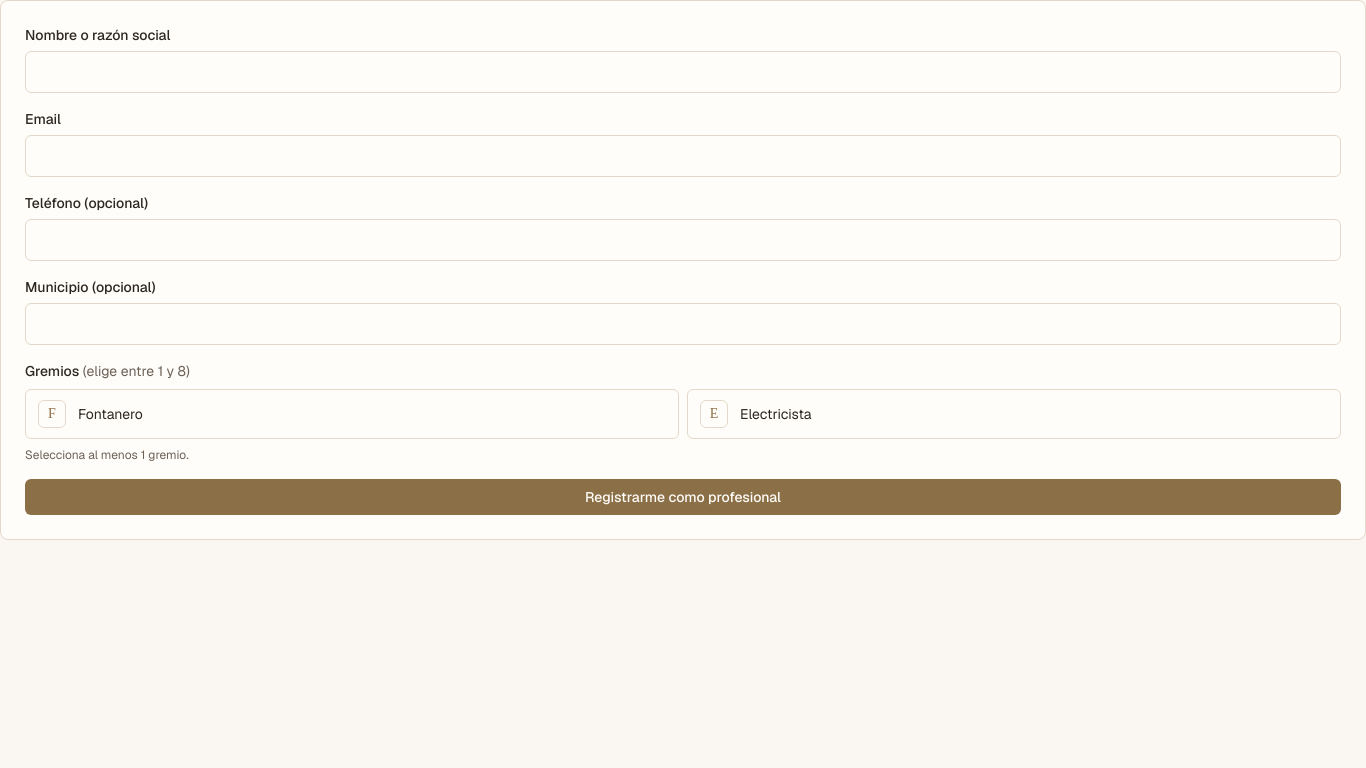
FormularioAlta › un_segundo_submit_con_la_peticion_en_vuelo_no_dispara_un_segundo_post
Expected: the checkbox labelled "Fontanero" is shown, [25,389,679,439]
Type "Luis Fontanero" into the field labelled "Nombre o razón social" at (683, 72), box [25,51,1341,93]
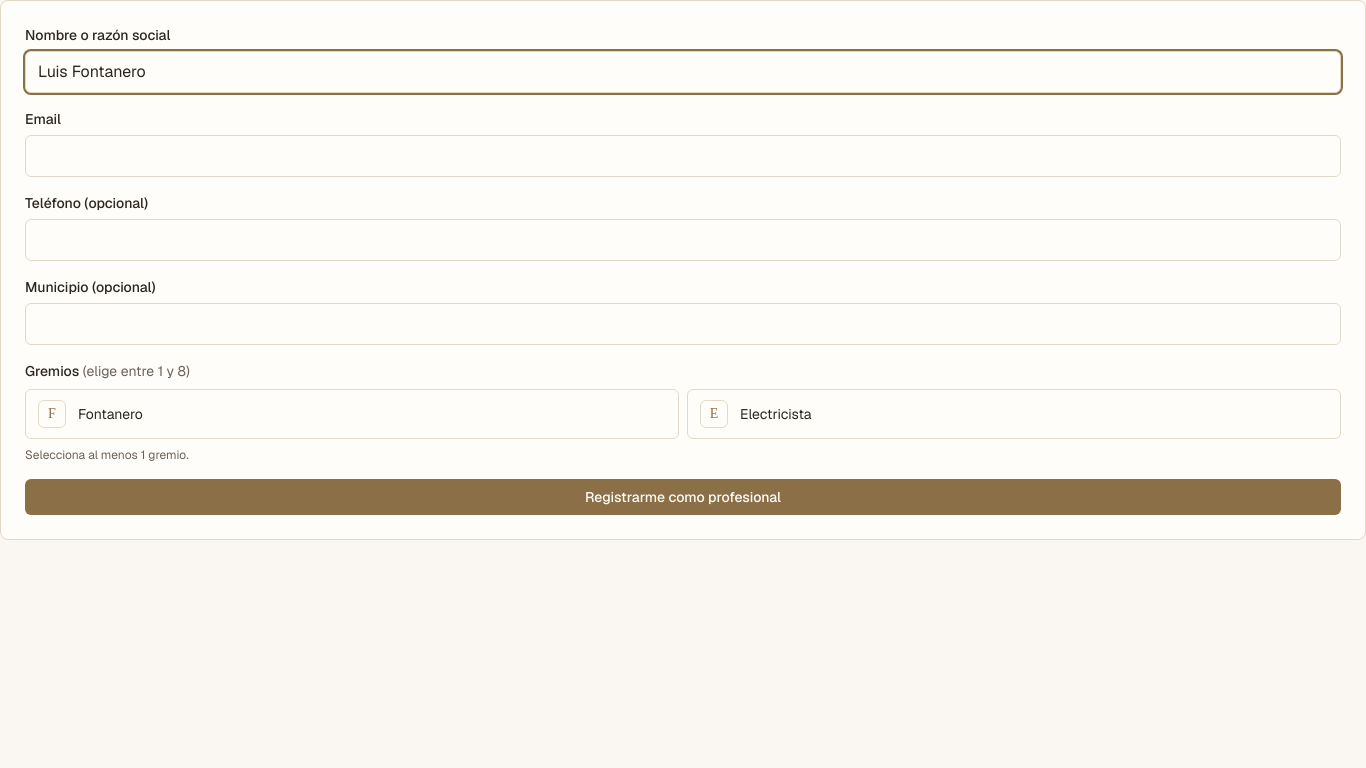
Type "luis@ejemplo.com" into the field labelled "Email" at (683, 156), box [25,135,1341,177]
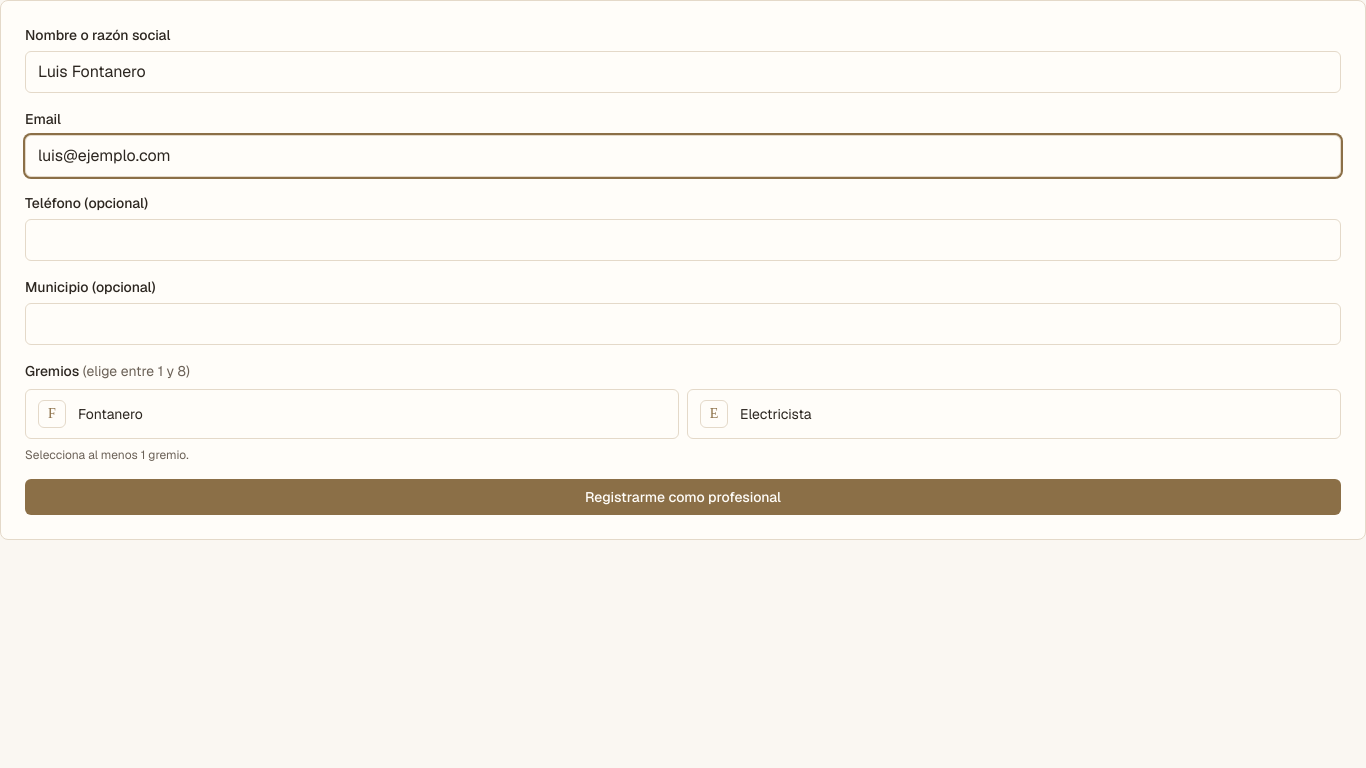
Click the checkbox labelled "Fontanero" at (110, 414), box [25,389,679,439]
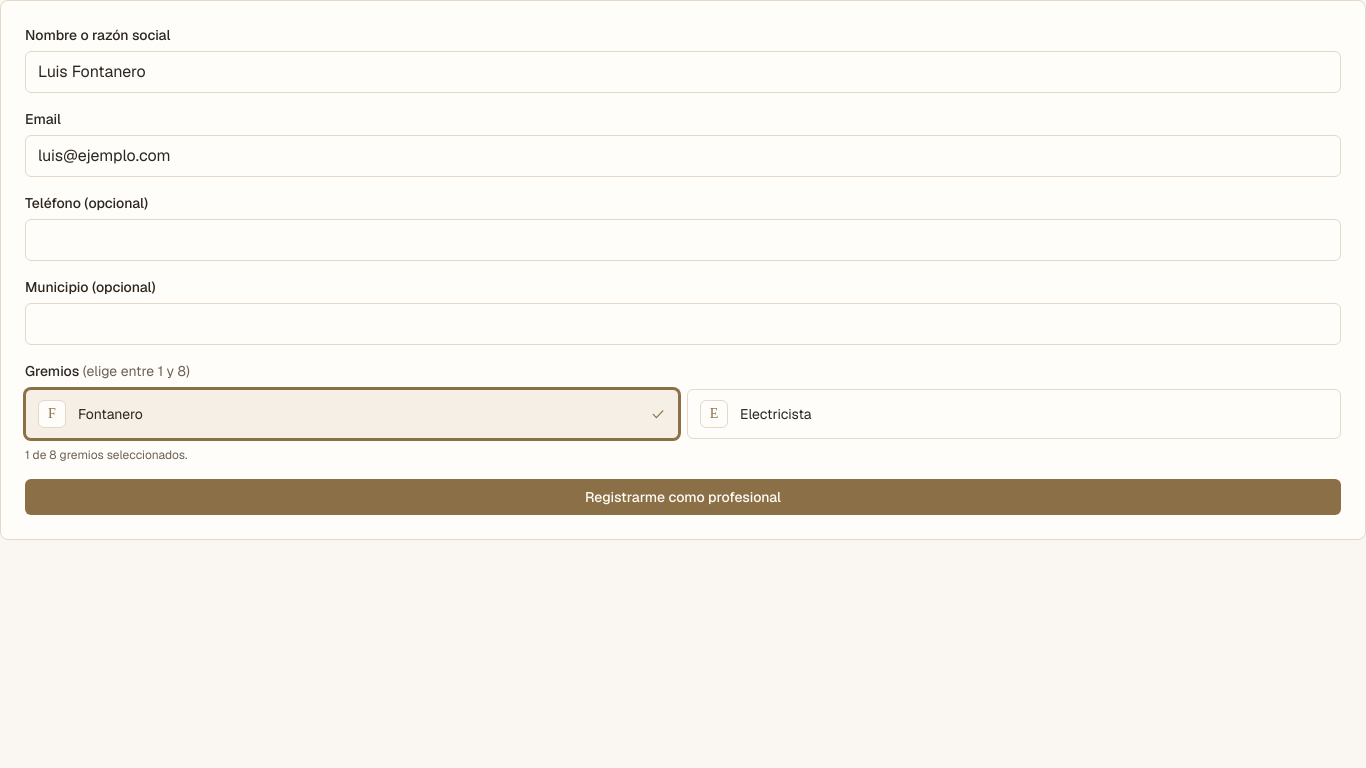
Submit the form named "Registrarme como profesional"
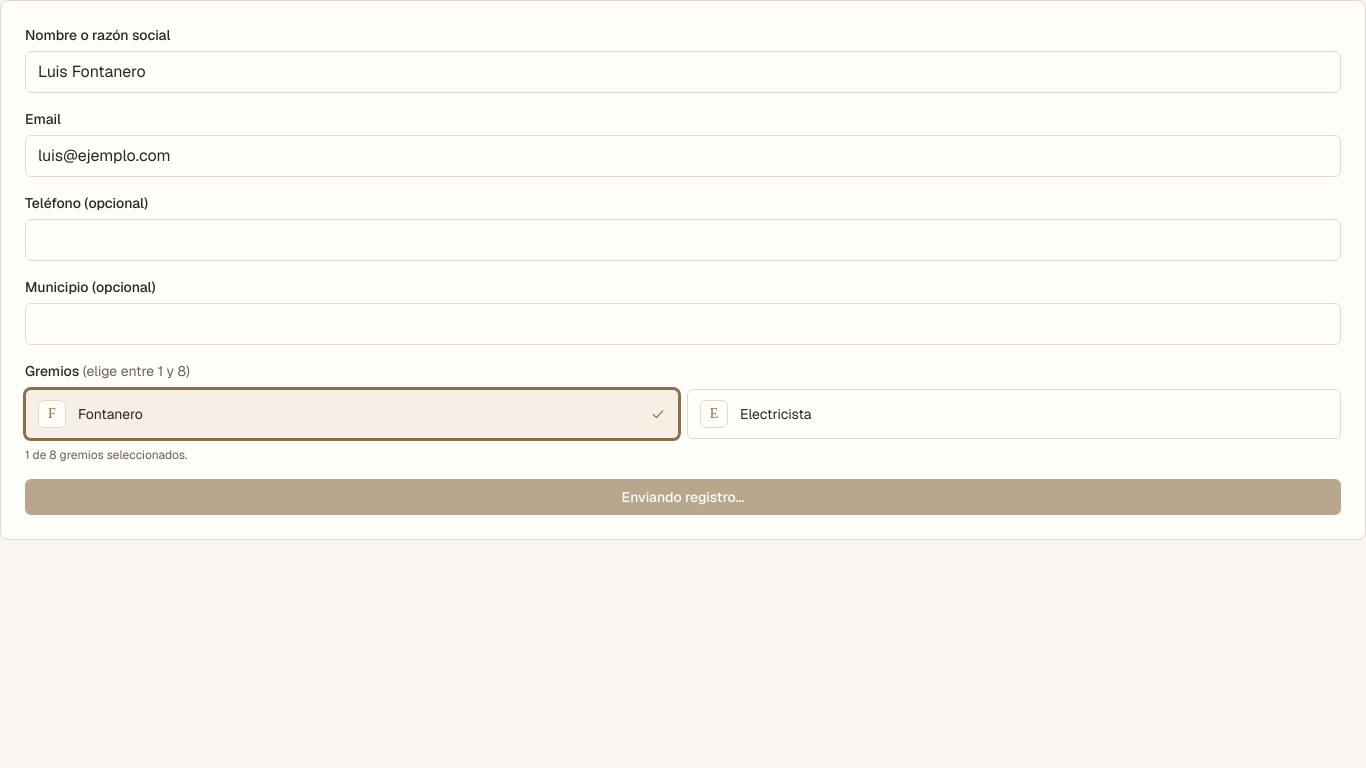
Result: the button "Enviando registro…" is disabled at [25,479,1341,515]
Submit the form named "Registrarme como profesional"
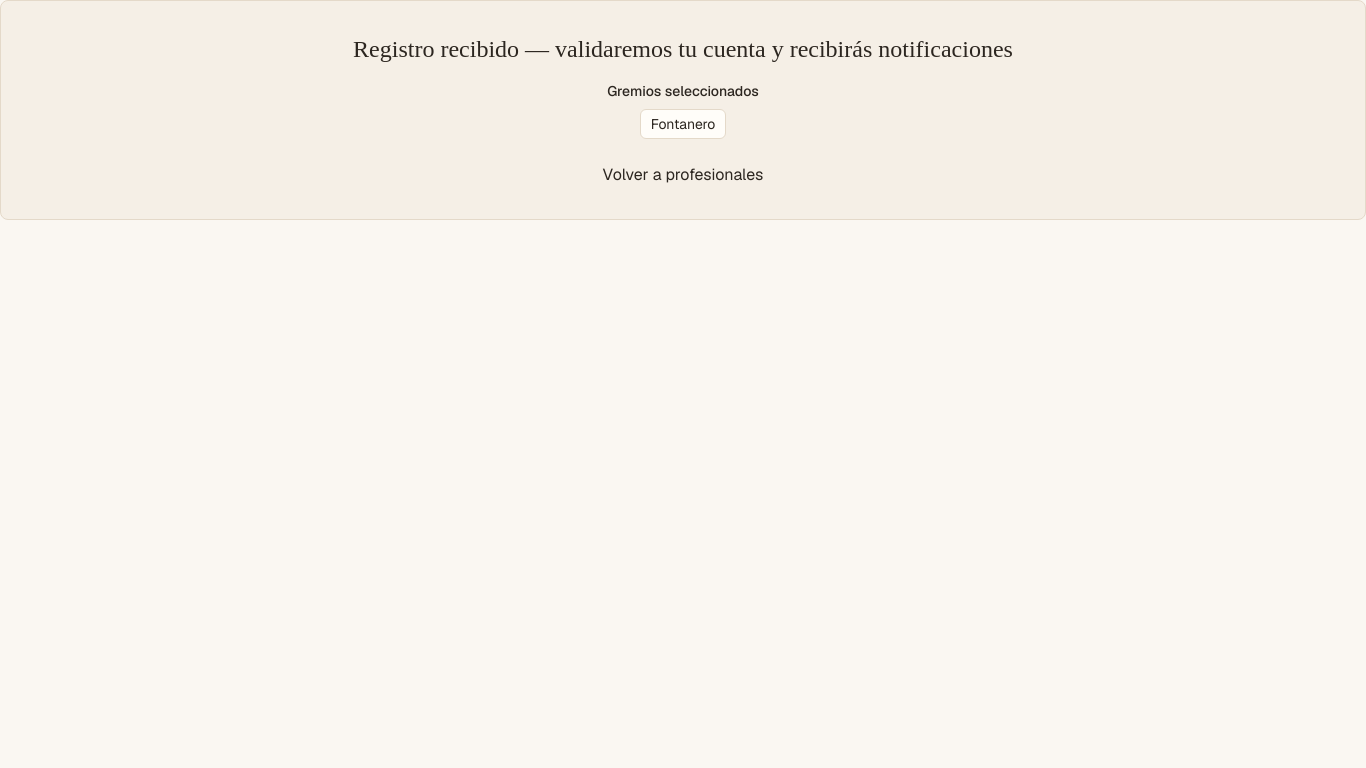
Result: the heading "Registro recibido — validaremos tu cuenta y recibirás notificaciones" is shown at [353,36,1013,62]
